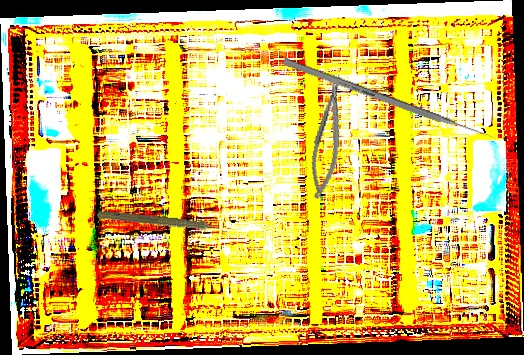Handpiece: (96, 208, 230, 237)
Needle Holder: (303, 73, 354, 201)
Pusher: (282, 57, 498, 143)
